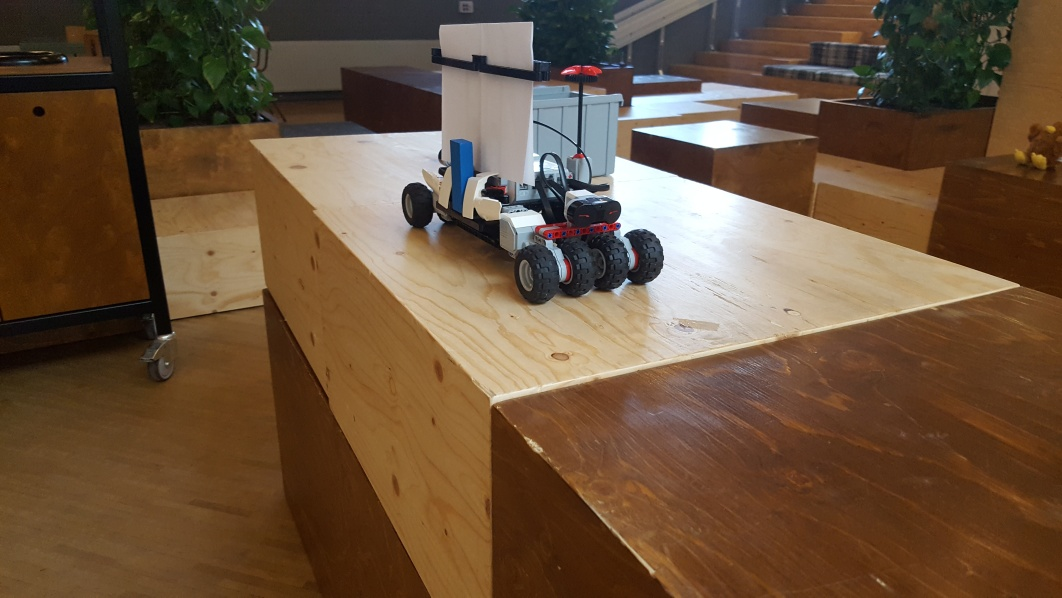car: (403, 22, 666, 305)
